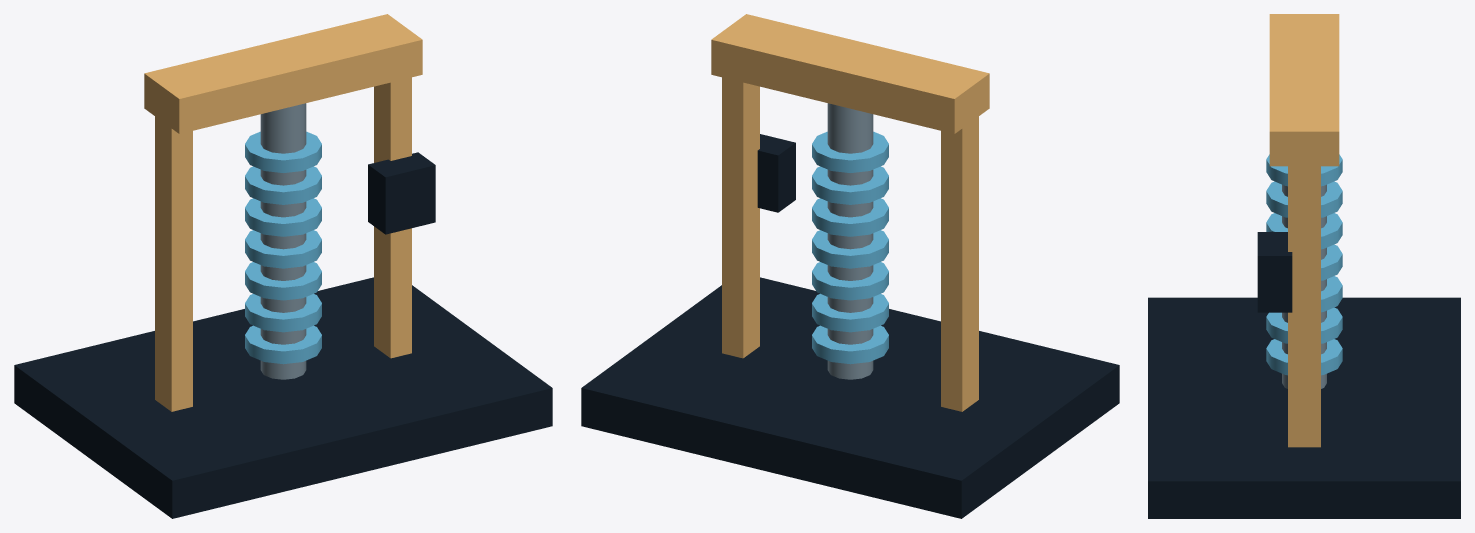
The model's file is station-drill.glb.
The picture shows the model from 3 angles, left to right: view 1: azimuth 30°, elevation 25°; view 2: azimuth 150°, elevation 25°; view 3: azimuth 270°, elevation 25°; orthographic projection.
Visible parts, largest first — view 1: foundation, support (×2), crossbar, auger-ring (×7), auger, control; view 2: foundation, support (×2), crossbar, auger-ring (×7), auger, control; view 3: foundation, crossbar, support, auger-ring (×7), control, auger.
Part boxes in pixels (box(x1,y1,x2,y2)): foundation: box(14, 277, 552, 518); support (×2): box(155, 77, 411, 411); crossbar: box(144, 14, 422, 133); auger-ring (×7): box(245, 131, 321, 364); auger: box(260, 103, 306, 379); control: box(368, 152, 435, 234); foundation: box(581, 277, 1119, 518); support (×2): box(722, 77, 978, 411); crossbar: box(711, 14, 989, 133); auger-ring (×7): box(812, 131, 888, 364); auger: box(827, 103, 873, 379); control: box(757, 134, 795, 212); foundation: box(1148, 297, 1460, 518); crossbar: box(1269, 14, 1339, 166); support: box(1288, 166, 1320, 447); auger-ring (×7): box(1266, 154, 1342, 375); control: box(1257, 232, 1292, 312); auger: box(1282, 184, 1326, 388).
Bounding box in the file's own units: 2.5 × 2.25 × 1.8.
